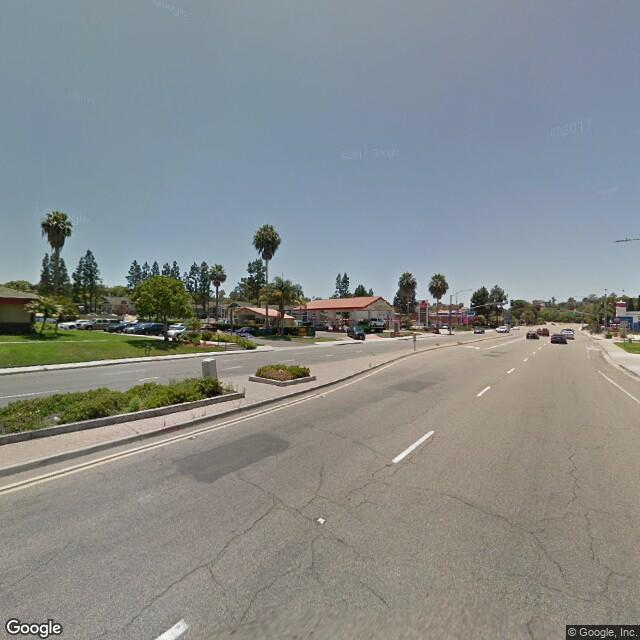litter: (52, 415, 61, 422), (44, 367, 49, 373)
